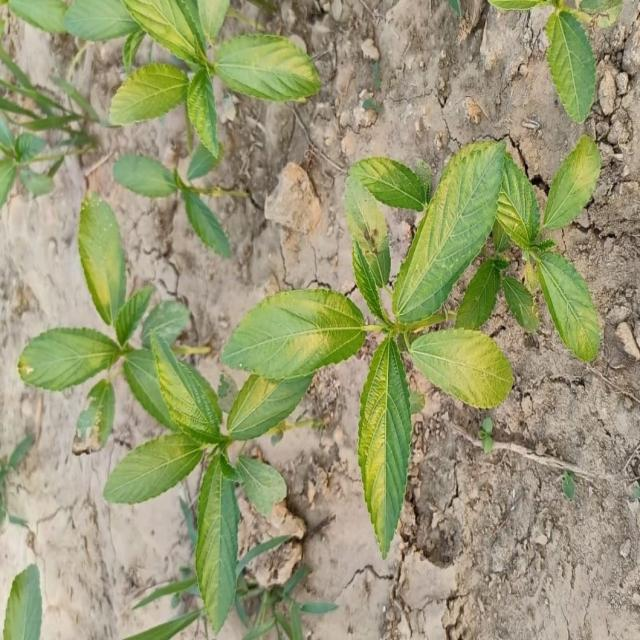plant: (18, 136, 602, 630), (9, 0, 320, 255), (548, 0, 618, 121)
